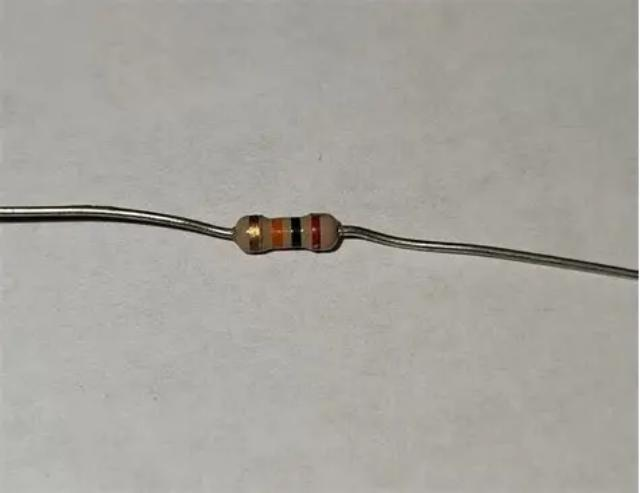black: (290, 217, 303, 250)
brown: (310, 214, 321, 252)
gold: (248, 216, 262, 255)
orange: (271, 218, 283, 251)
resistor: (213, 194, 358, 276)
